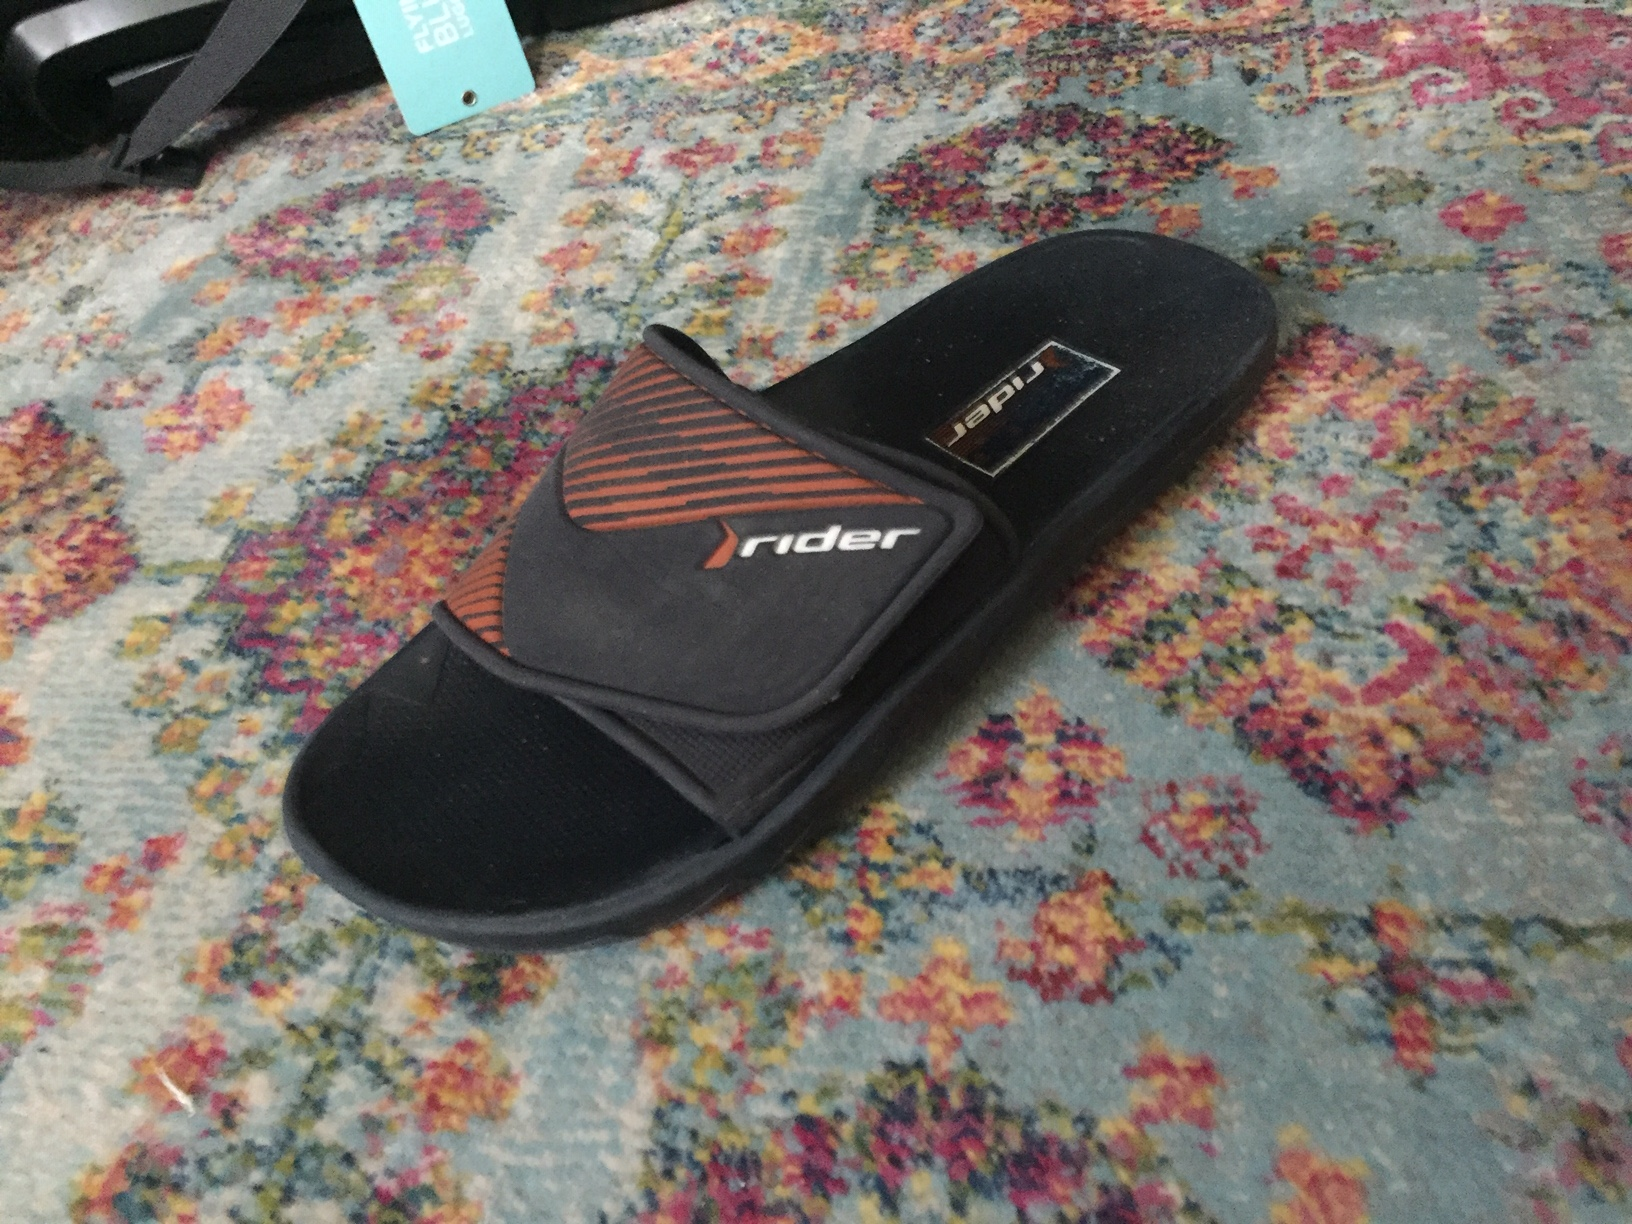car: (260, 225, 1281, 969)
